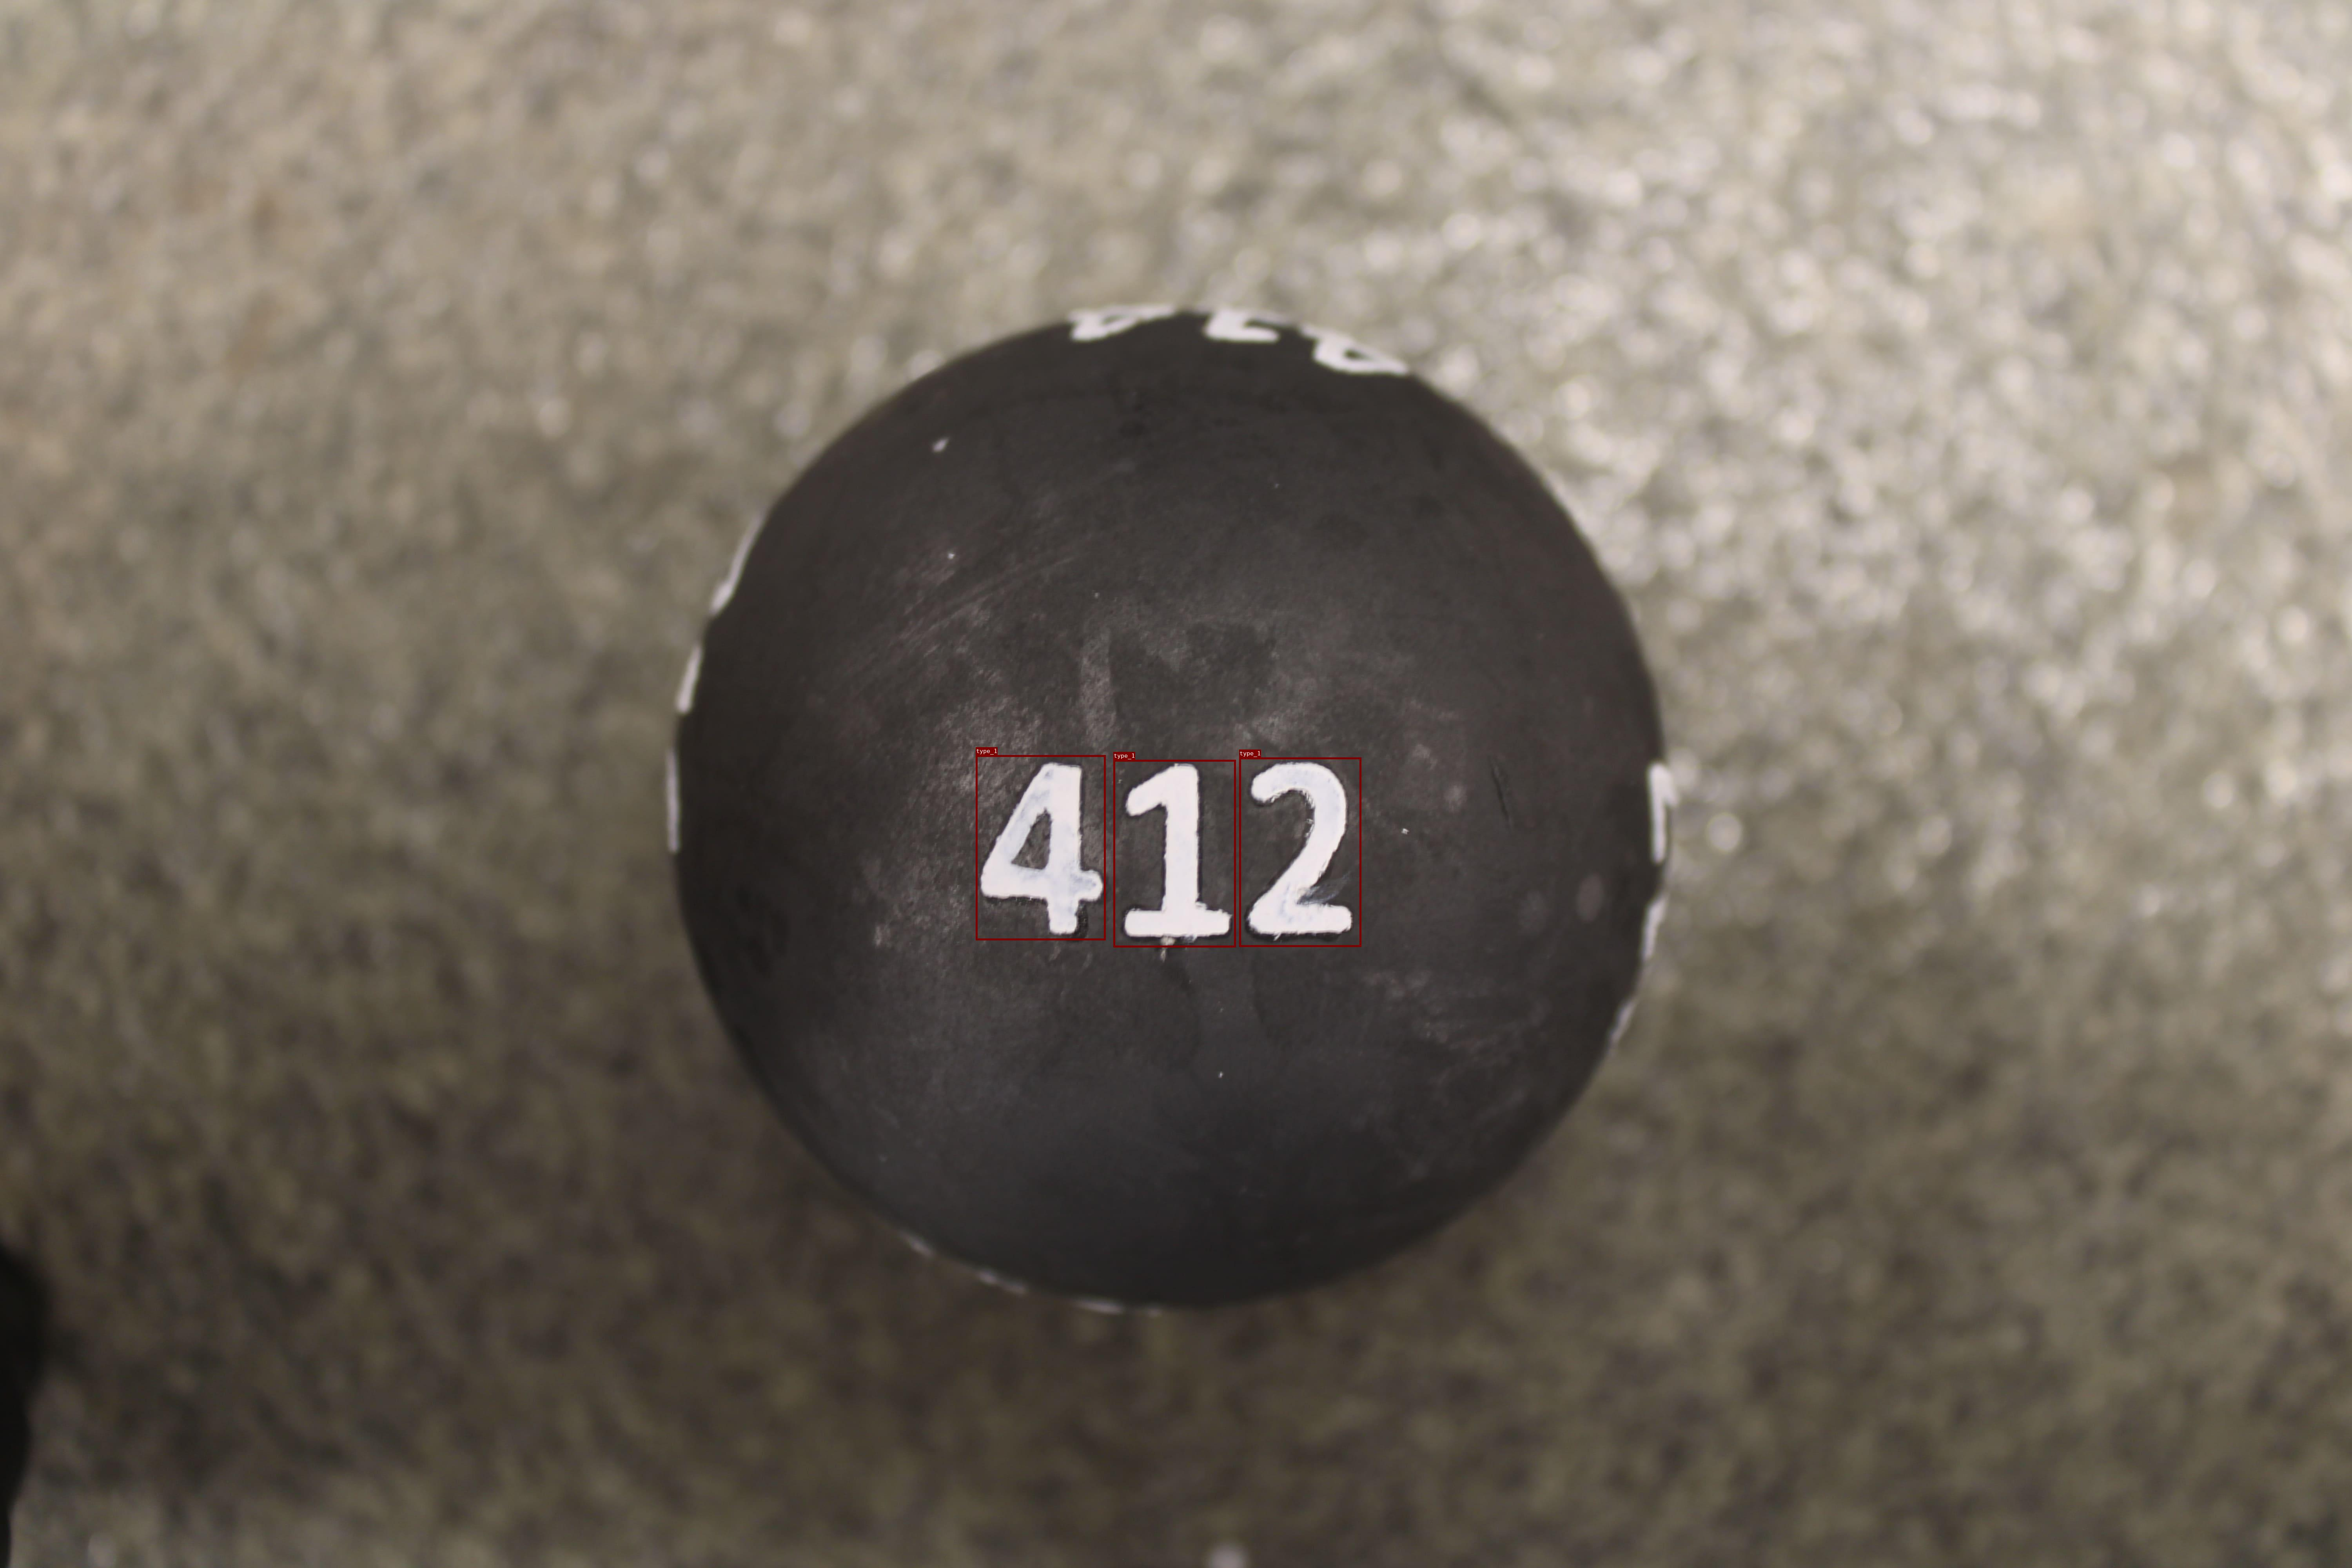type_1: (976, 754, 1106, 940), (1239, 758, 1361, 947), (1113, 759, 1235, 947)
